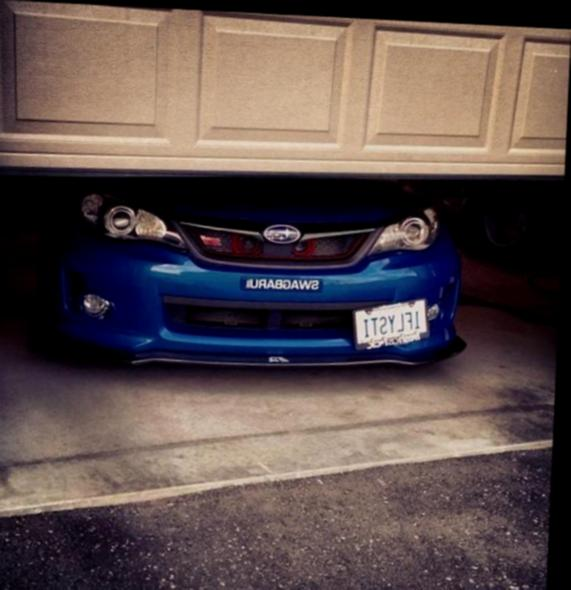License_Plate: (342, 282, 440, 364)
